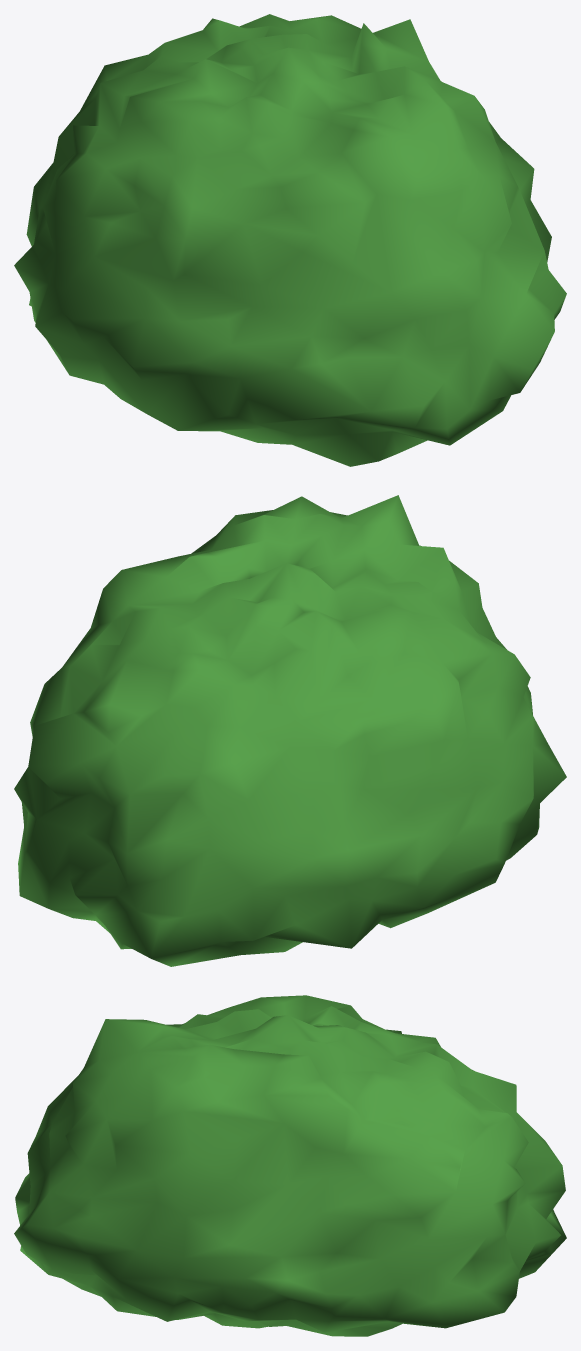
The model's file is bush.fbx.
The picture shows the model from 3 angles, top to bottom: view 1: azimuth 30°, elevation 25°; view 2: azimuth 150°, elevation 25°; view 3: azimuth 270°, elevation 25°; orthographic projection. The views are drawn at different scales.
Visible parts, largest first — view 1: Bush; view 2: Bush; view 3: Bush.
Part boxes in pixels (x1=…): Bush: x1=14, y1=14, x2=566, y2=466; Bush: x1=14, y1=495, x2=566, y2=966; Bush: x1=14, y1=995, x2=566, y2=1336.
Size of the model in its own units: 434 by 328 by 562.
